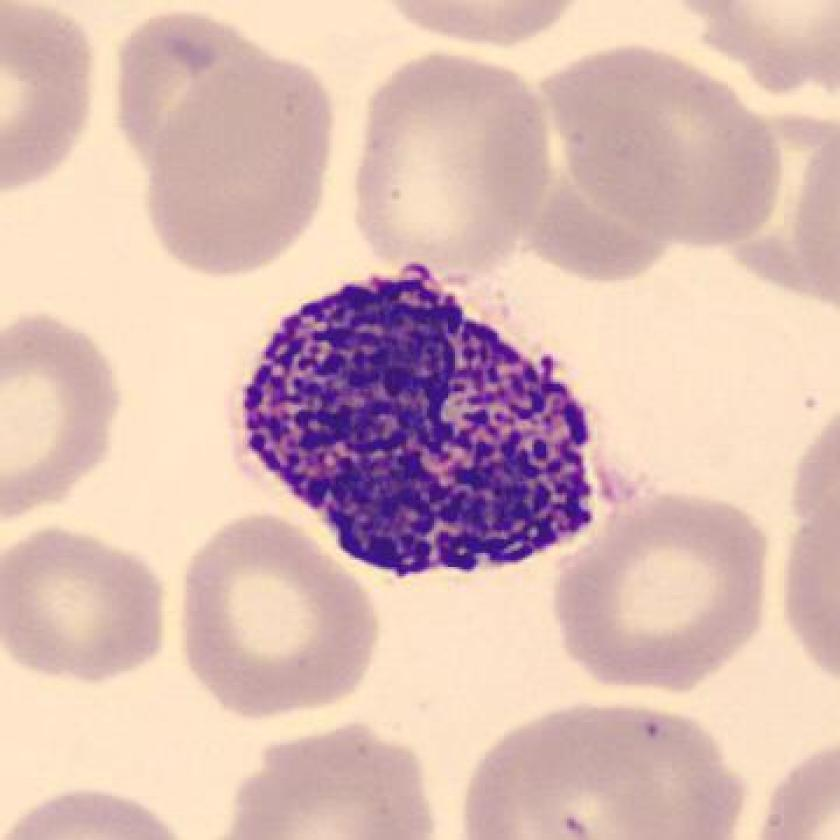basophil: (230, 265, 626, 584)
